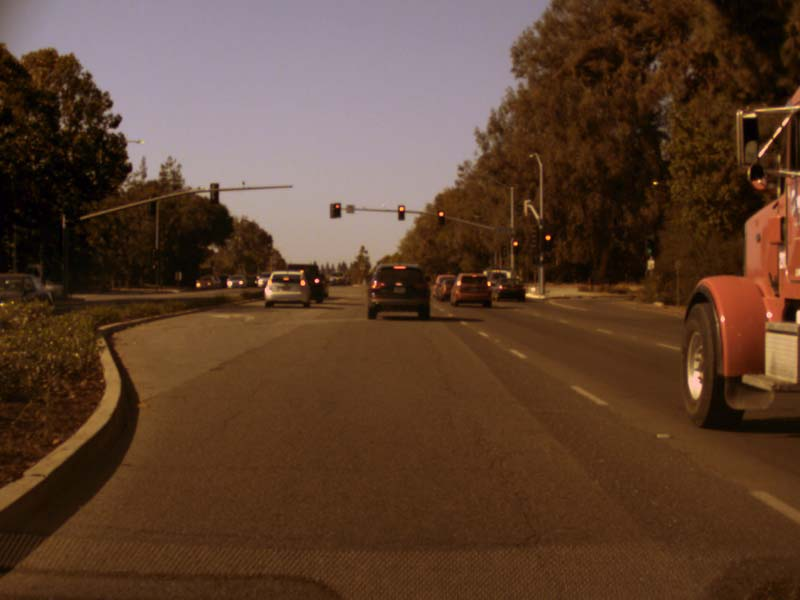Green: (643, 237, 654, 256)
Red: (542, 229, 552, 249), (397, 204, 404, 220), (333, 203, 339, 217), (438, 211, 444, 224), (512, 241, 519, 249)
Yellow: (151, 262, 156, 270)
